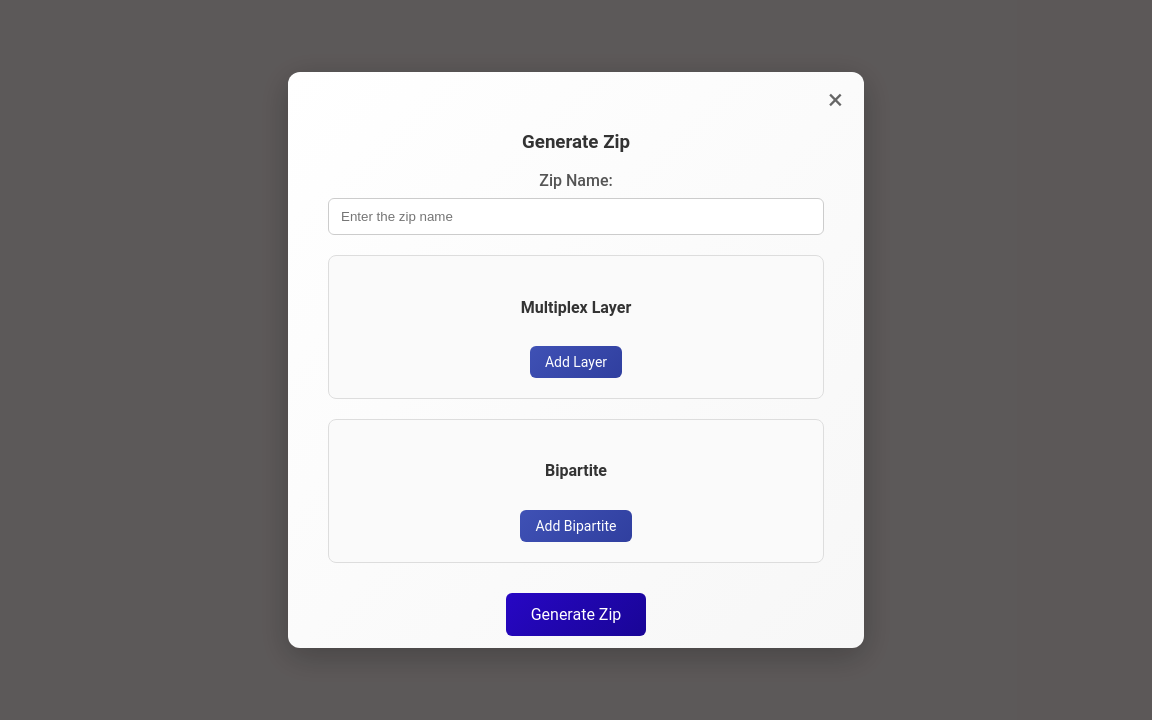
it: GenerateZipForm — interactions › clic sur "Add Layer" ajoute un layer dans la liste
Click the button "Add Layer" at (576, 362), box [530,346,622,378]
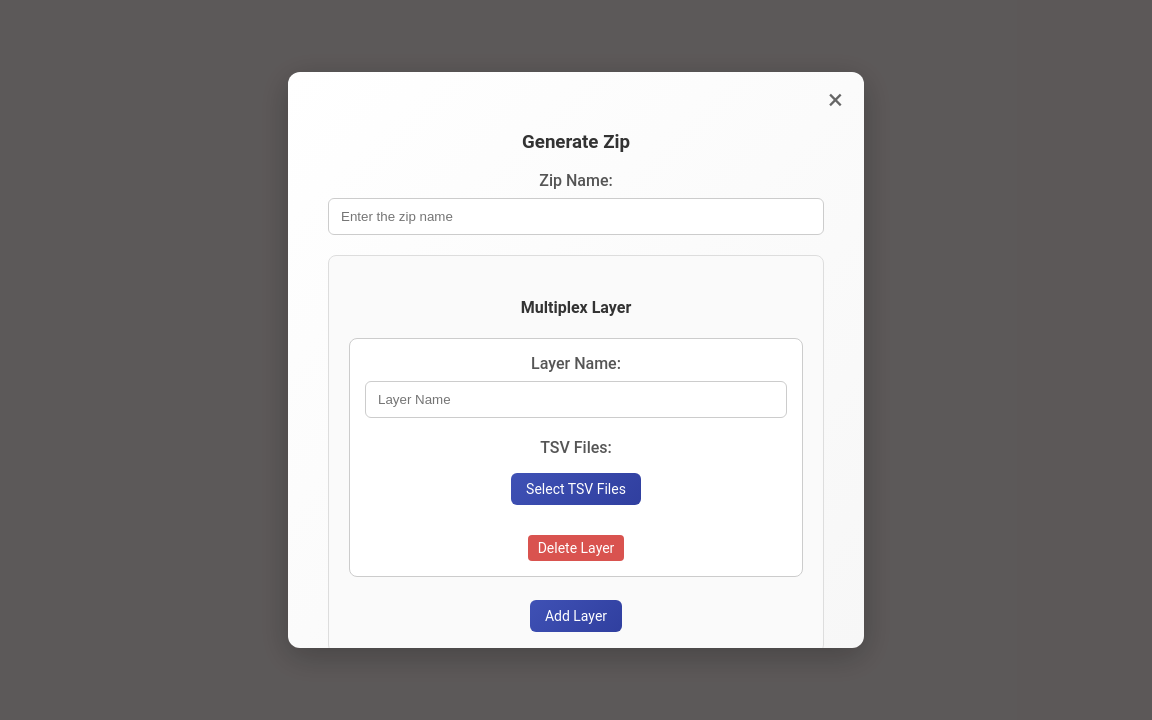
Expected: the field with placeholder "Layer Name" is shown, [365,381,787,418]
